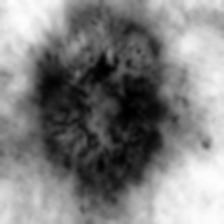Potentially Malignant Skin Tumors: (9, 14, 201, 208)
